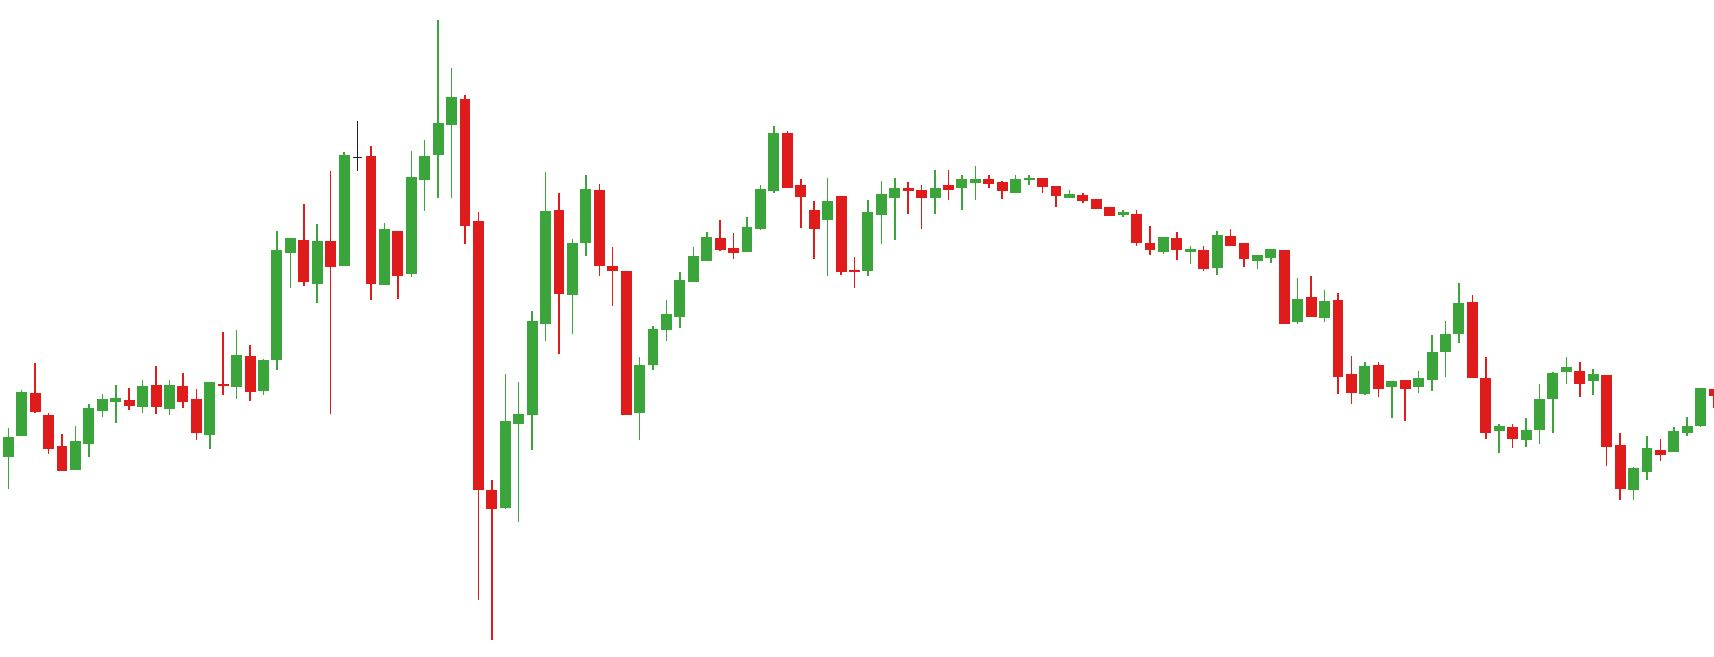buy: (553, 201, 661, 442)
sell: (353, 17, 472, 206), (1331, 269, 1480, 369)
